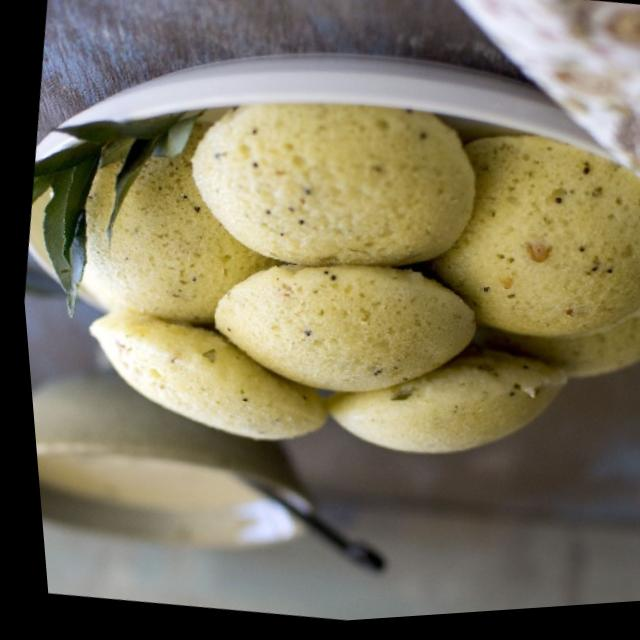IDLI: (91, 104, 640, 450)
